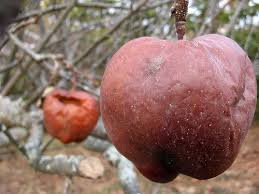damaged_apple: (104, 38, 256, 182), (37, 88, 99, 146)
